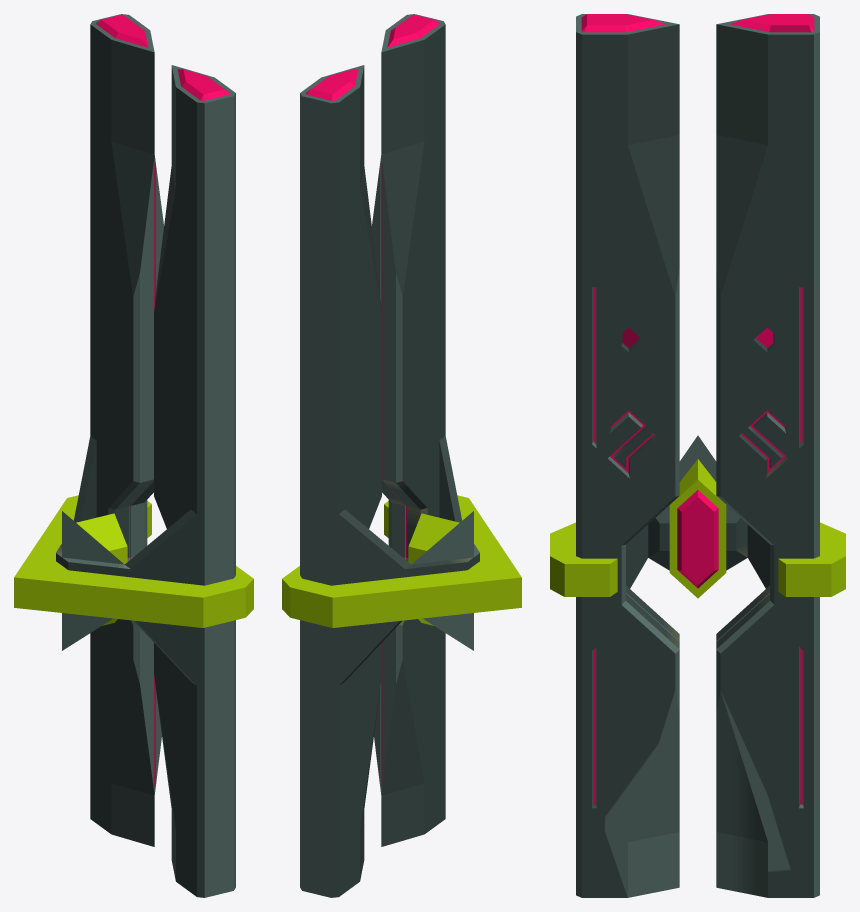
Rendered from ancientgate.gltf.
3 views of the same model, side by side, from view 1: azimuth 30°, elevation 25°; view 2: azimuth 150°, elevation 25°; view 3: azimuth 270°, elevation 25° (orthographic). The views are drawn at different scales.
Visible parts, largest first — view 1: Cube.002; view 2: Cube.002; view 3: Cube.002.
Part boxes in pixels (x1,y1,x2,y2): Cube.002: (14,14,253,897); Cube.002: (282,14,521,897); Cube.002: (550,14,845,897).
Size of the model in its own units: 1.04 by 4.48 by 1.38.
1 material, 1 textured.
